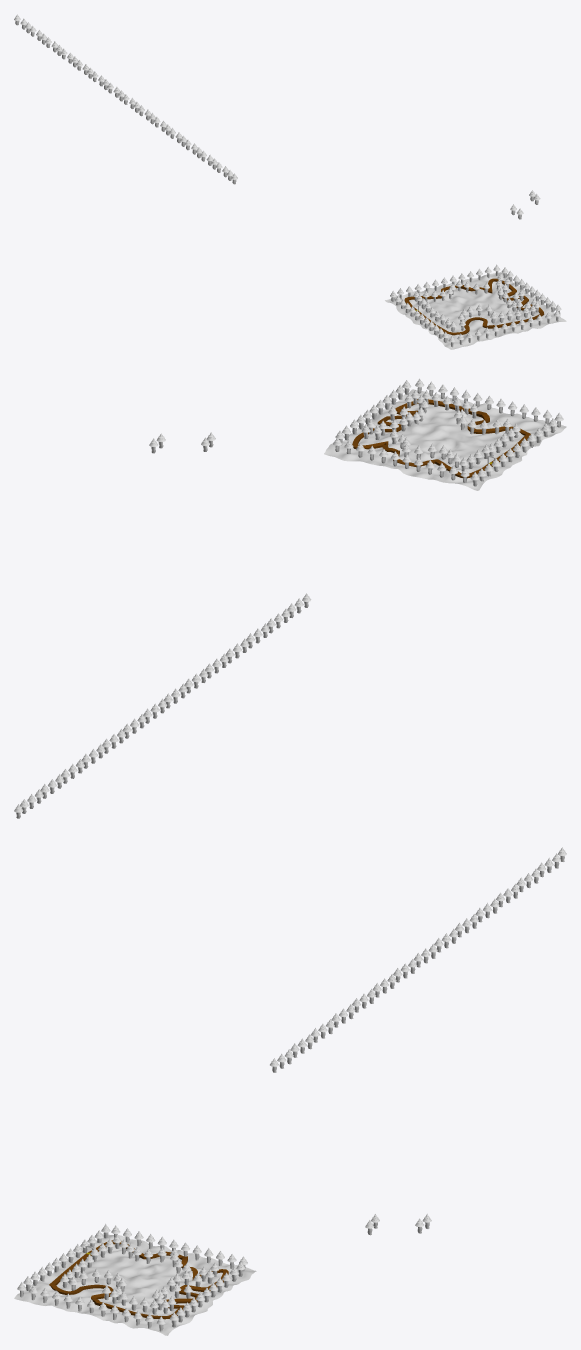
The picture shows the model from 3 angles, top to bottom: view 1: azimuth 30°, elevation 25°; view 2: azimuth 150°, elevation 25°; view 3: azimuth 330°, elevation 25°; orthographic projection. The views are drawn at different scales.
Parts seen in each view (by area): view 1: Plane001, Line001; view 2: Plane001, Line001; view 3: Plane001, Line001.
Boxes of the visible parts, bbox=[...] form: Plane001: bbox=[385, 272, 566, 349]; Line001: bbox=[404, 278, 544, 335]; Plane001: bbox=[324, 389, 566, 490]; Line001: bbox=[352, 399, 530, 478]; Plane001: bbox=[14, 1233, 256, 1335]; Line001: bbox=[49, 1240, 228, 1319].
Size of the model in its own units: 917 by 120 by 3178.
